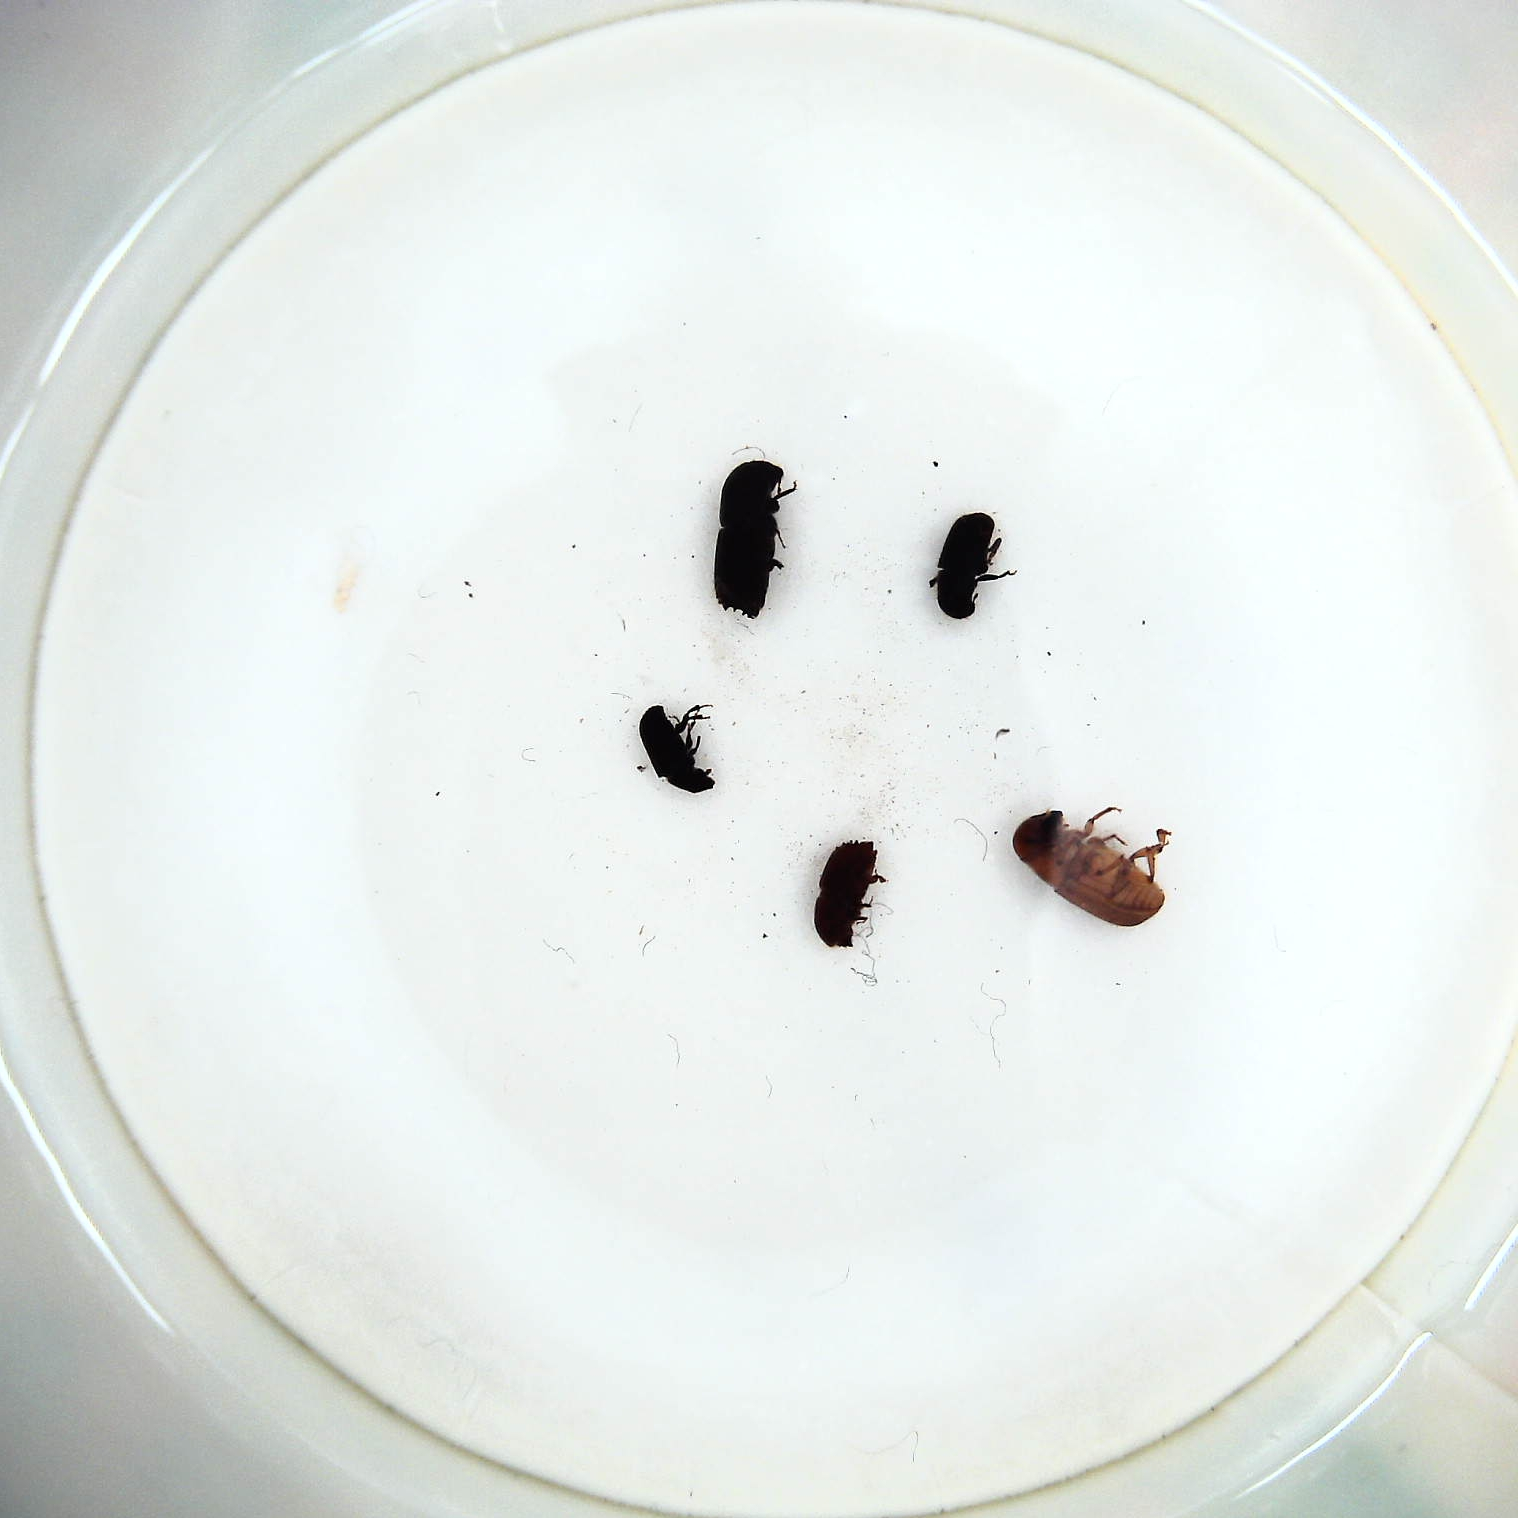Boerner: (708, 457, 794, 624)
Leconte: (1011, 802, 1172, 931)
armandi: (929, 512, 1020, 621)
coleoptera: (632, 696, 719, 802)
linnaeus: (810, 835, 885, 956)
